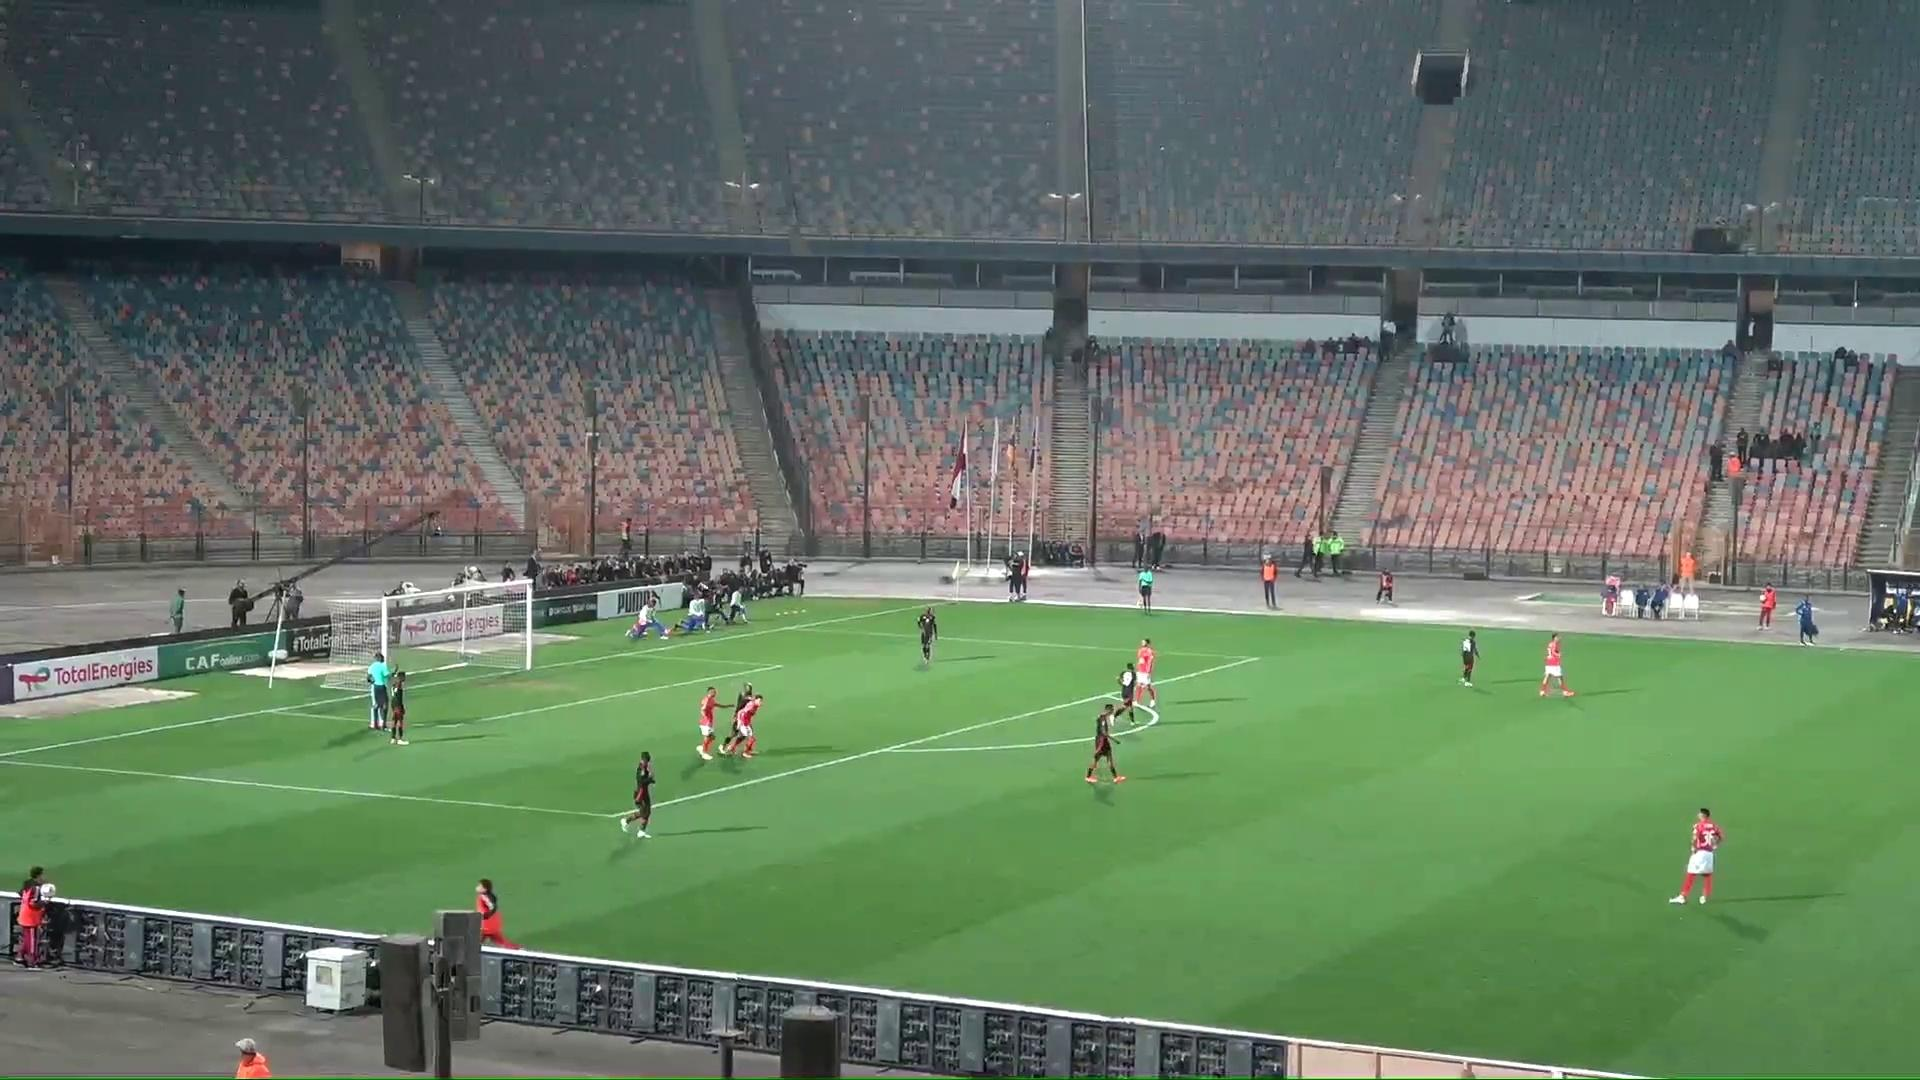Refree: (367, 650, 400, 731), (1134, 563, 1162, 611)
Team1: (1669, 807, 1724, 903), (1120, 640, 1156, 711), (1538, 632, 1575, 698), (695, 686, 727, 760), (729, 695, 764, 756)
Team2: (1084, 705, 1125, 783), (618, 752, 655, 837), (1104, 661, 1143, 735), (389, 669, 407, 744), (916, 607, 939, 665), (1458, 629, 1480, 686)
